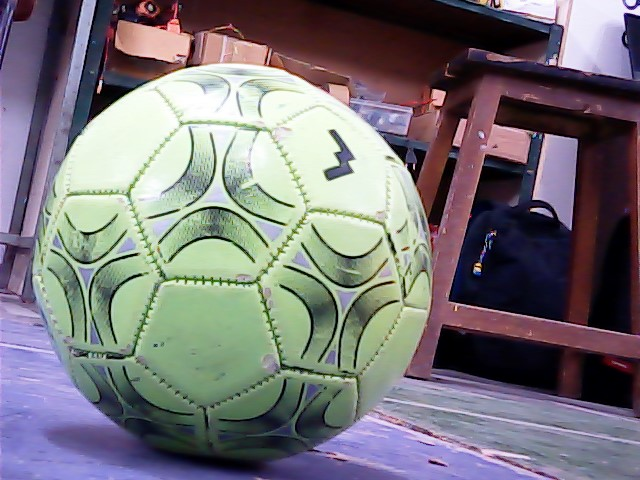Orange_ball: (30, 64, 438, 473)
